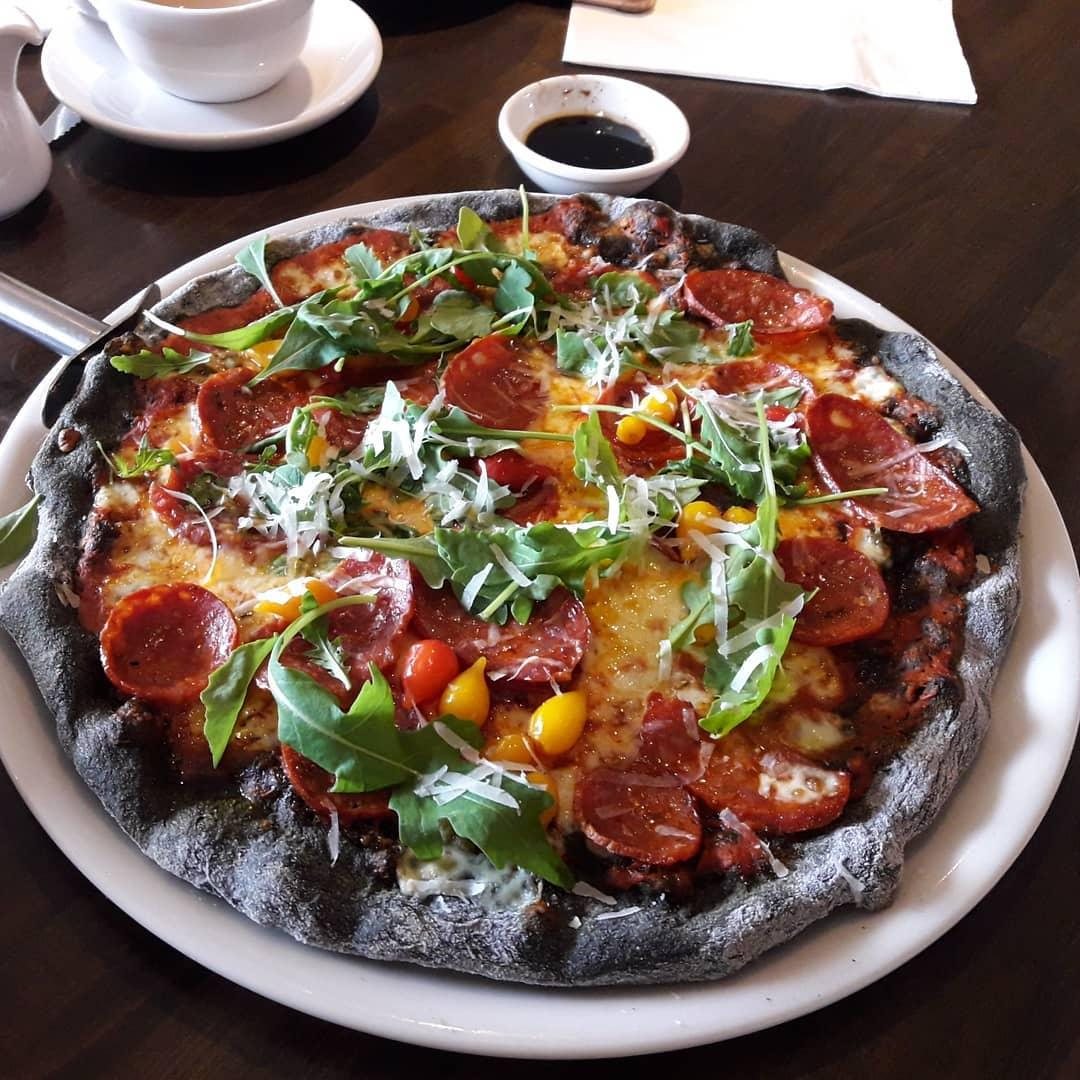Arugula: (266, 591, 582, 900), (245, 182, 551, 388), (667, 387, 819, 752), (332, 507, 671, 626), (194, 583, 386, 775), (335, 398, 632, 510), (583, 259, 762, 380), (232, 402, 341, 552), (111, 334, 220, 382), (95, 431, 183, 484)
Pepperoni: (633, 682, 856, 837), (794, 388, 983, 541), (604, 360, 821, 467), (95, 578, 244, 709), (149, 448, 307, 546), (766, 527, 893, 646), (568, 756, 703, 865), (674, 262, 841, 350), (434, 331, 556, 429), (267, 739, 402, 826), (191, 369, 314, 463), (590, 376, 697, 469)
Pizza: (0, 173, 1033, 995)
Tomatoes: (394, 628, 466, 713), (525, 688, 594, 763), (436, 651, 494, 732), (508, 763, 564, 834), (674, 493, 720, 564), (476, 726, 537, 776), (634, 377, 683, 425), (608, 413, 649, 448), (721, 499, 760, 534)
